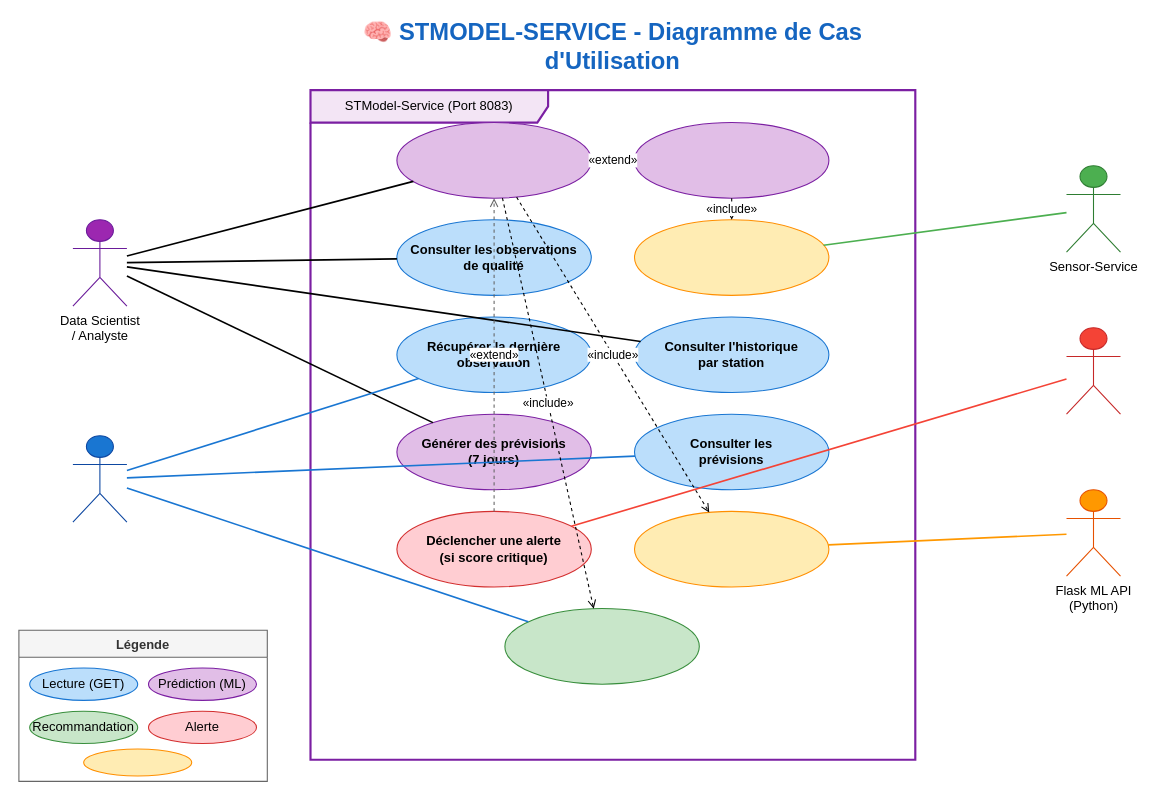
Image size: 1157x800. Some labels were removed from this diagram. Here are the shapes that lost their labels. From the top down, the centre of each, then its label:
(493,160): Prédire la qualité de l'eau
(731,160): Prédire la qualité pour une station
(731,257): Récupérer les mesures capteurs
(1092,370): Alert-Service
(99,478): Opérateur
(731,548): Appeler le modèle ML (Flask API)
(601,646): Générer une recommandation
(137,762): Appel Externe
